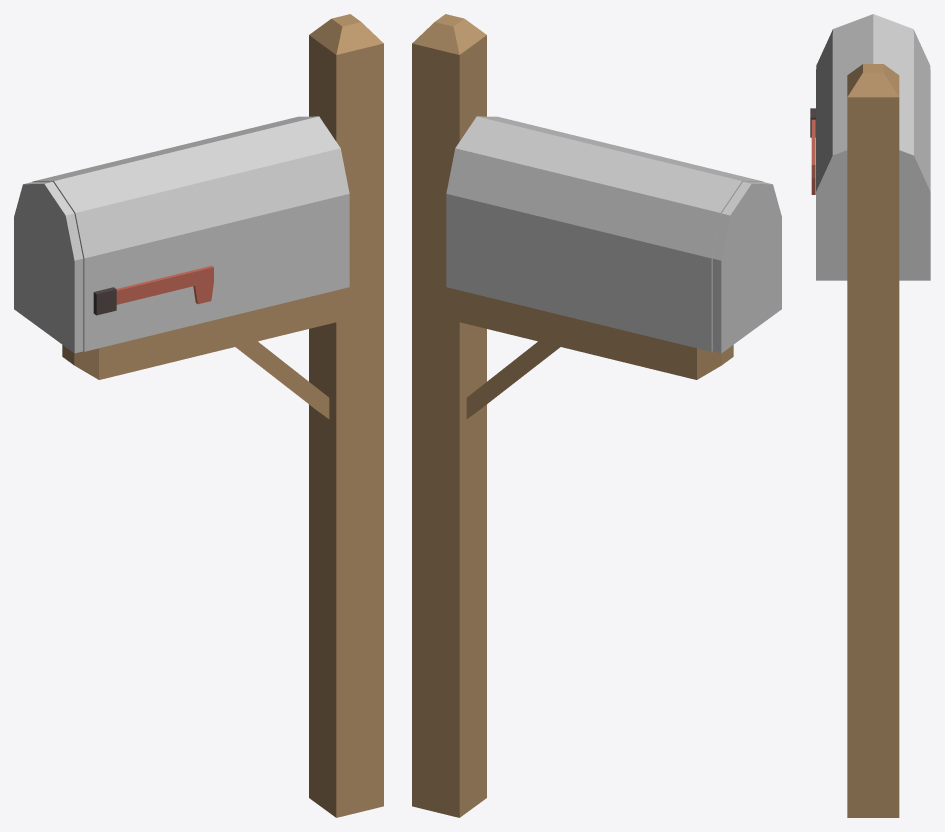
Rendered from mailbox.fbx.
The picture shows the model from 3 angles, left to right: view 1: azimuth 30°, elevation 25°; view 2: azimuth 150°, elevation 25°; view 3: azimuth 270°, elevation 25°; orthographic projection. The views are drawn at different scales.
Visible parts, largest first — view 1: pCylinder3; view 2: pCylinder3; view 3: pCylinder3.
Part boxes in pixels (x1,y1,x2,y2): pCylinder3: [14, 14, 383, 817]; pCylinder3: [412, 14, 781, 817]; pCylinder3: [810, 14, 930, 817].
Bounding box in the file's own units: 6.19 × 14.19 × 2.1.
